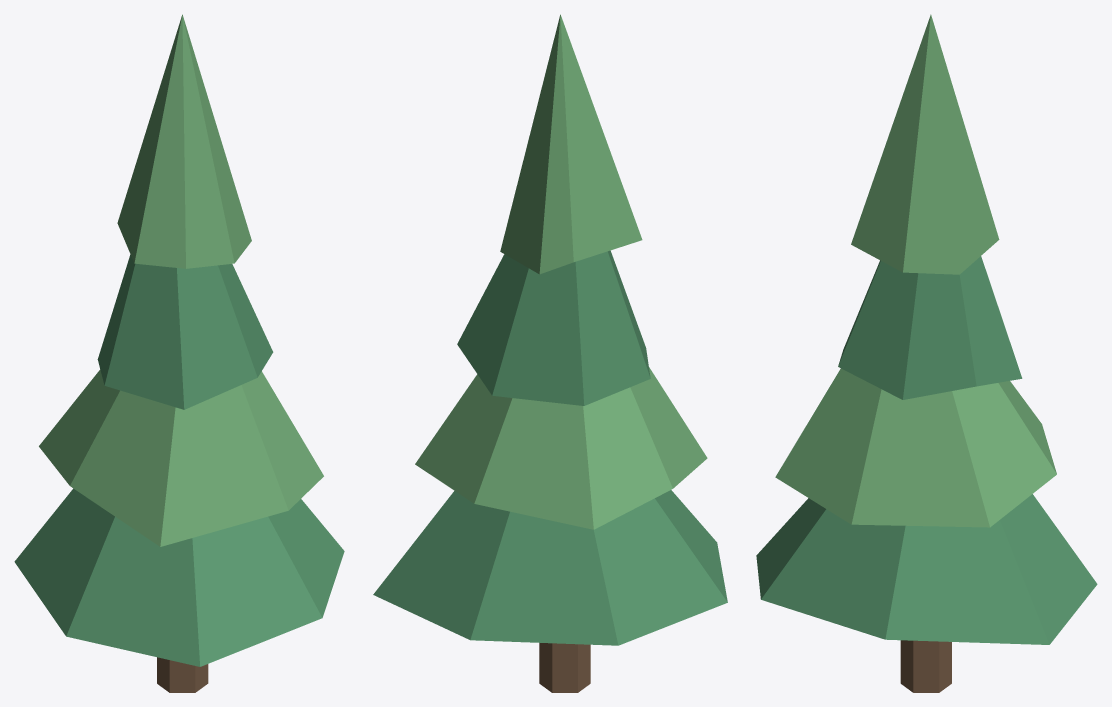
File: SM_Pine_02.fbx
3 views of the same model, side by side, from view 1: azimuth 30°, elevation 25°; view 2: azimuth 150°, elevation 25°; view 3: azimuth 270°, elevation 25° (orthographic).
Visible parts, largest first — view 1: SM_Pine_02; view 2: SM_Pine_02; view 3: SM_Pine_02.
Boxes of the visible parts, left/top/right/bottom form: SM_Pine_02: left=14, top=14, right=344, bottom=692; SM_Pine_02: left=373, top=14, right=727, bottom=692; SM_Pine_02: left=756, top=14, right=1097, bottom=692.
Size of the model in its own units: 1.99 by 4.52 by 2.09.
